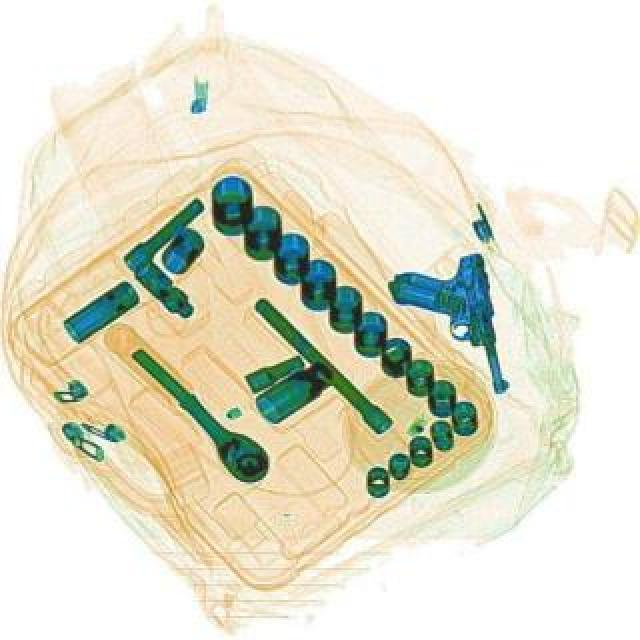gun: (382, 250, 510, 406)
